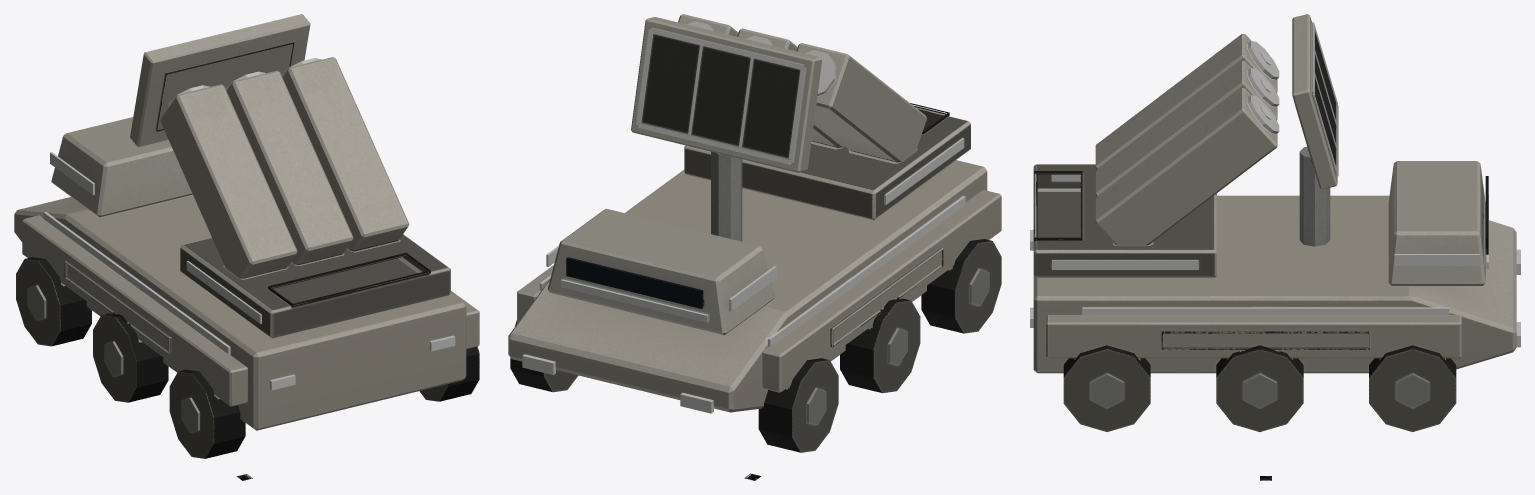
The model's file is ord_seraph.fbx.
3 views of the same model, side by side, from view 1: azimuth 30°, elevation 25°; view 2: azimuth 150°, elevation 25°; view 3: azimuth 270°, elevation 25° (orthographic). The views are drawn at different scales.
Parts seen in each view (by area): view 1: base_bar, launcher_bar, turret_bar, base_glow_running_bar, launcher_glow_running_bar; view 2: base_bar, turret_bar, launcher_bar, base_glow_running_bar, turret_glow_running_bar, base_glow_head_bar, launcher_glow_running_bar; view 3: base_bar, launcher_bar, turret_bar, base_glow_running_bar, launcher_glow_running_bar, turret_glow_running_bar.
Boxes of the visible parts, box(x1,y1,x2,y2) form: base_bar: box(14, 117, 479, 458); launcher_bar: box(160, 57, 450, 338); turret_bar: box(130, 14, 310, 146); base_glow_running_bar: box(43, 152, 455, 390); launcher_glow_running_bar: box(186, 261, 261, 323); base_bar: box(508, 160, 1001, 452); turret_bar: box(631, 17, 822, 241); launcher_bar: box(678, 14, 970, 220); base_glow_running_bar: box(539, 196, 965, 347); turret_glow_running_bar: box(636, 27, 805, 164); base_glow_head_bar: box(522, 354, 713, 413); launcher_glow_running_bar: box(884, 138, 964, 204); base_bar: box(1033, 161, 1516, 431); launcher_bar: box(1033, 34, 1279, 277); turret_bar: box(1292, 14, 1337, 246); base_glow_running_bar: box(1030, 195, 1488, 327); launcher_glow_running_bar: box(1052, 174, 1198, 269); turret_glow_running_bar: box(1312, 22, 1338, 176).
Size of the model in its own units: 508 by 770 by 803.
2 materials, 2 textured.
